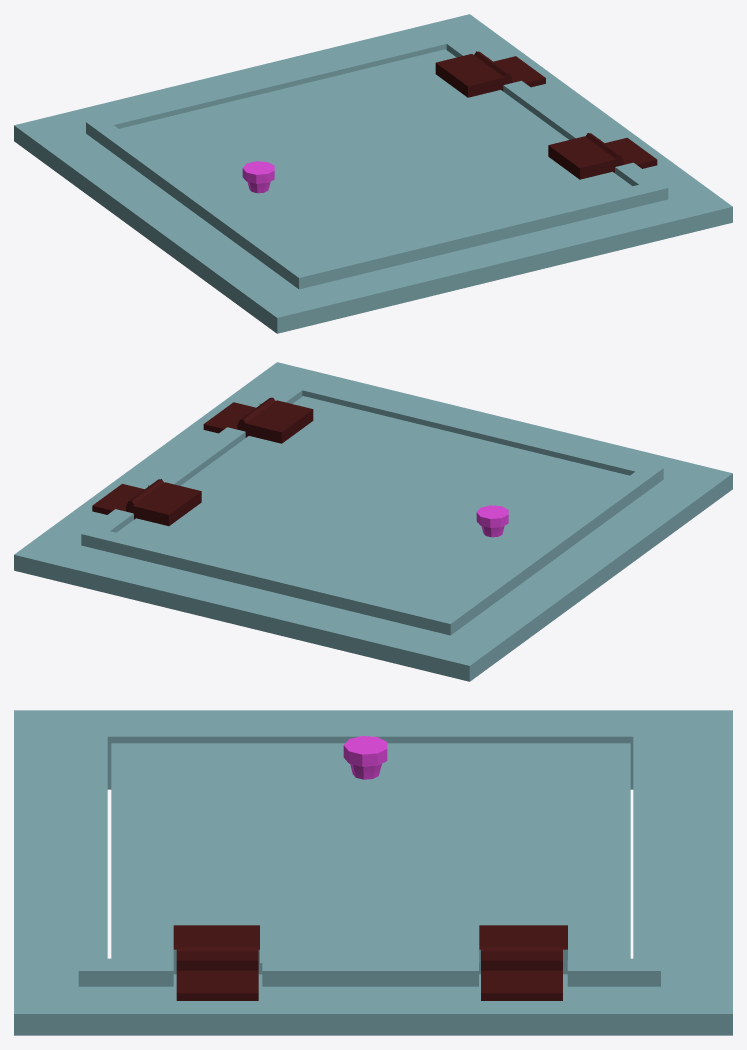
Rendered from SM A Hatch 1.5m.fbx.
3 renders of one model, top to bottom at view 1: azimuth 30°, elevation 25°; view 2: azimuth 150°, elevation 25°; view 3: azimuth 270°, elevation 25°, orthographic. The views are drawn at different scales.
Parts seen in each view (by area): view 1: SM_Hatch_1_5m, SM_HatchDoor, SM_Hinge1, SM_Hinge, SM_Knob; view 2: SM_Hatch_1_5m, SM_HatchDoor, SM_Hinge1, SM_Hinge, SM_Knob; view 3: SM_Hatch_1_5m, SM_HatchDoor, SM_Hinge1, SM_Hinge, SM_Knob.
Part boxes in pixels (box(x1,y1,x2,y2)): SM_Hatch_1_5m: box(14, 14, 732, 333); SM_HatchDoor: box(119, 49, 631, 265); SM_Hinge1: box(585, 133, 657, 172); SM_Hinge: box(474, 51, 545, 90); SM_Knob: box(242, 161, 274, 193); SM_Hatch_1_5m: box(14, 362, 732, 681); SM_HatchDoor: box(116, 396, 629, 612); SM_Hinge1: box(203, 397, 275, 437); SM_Hinge: box(92, 479, 163, 519); SM_Knob: box(476, 505, 508, 537); SM_Hatch_1_5m: box(14, 710, 732, 1035); SM_HatchDoor: box(111, 743, 630, 974); SM_Hinge1: box(176, 947, 258, 1000); SM_Hinge: box(481, 947, 562, 1000); SM_Knob: box(343, 736, 387, 779).
Size of the model in its own units: 150 by 18.9 by 150.
